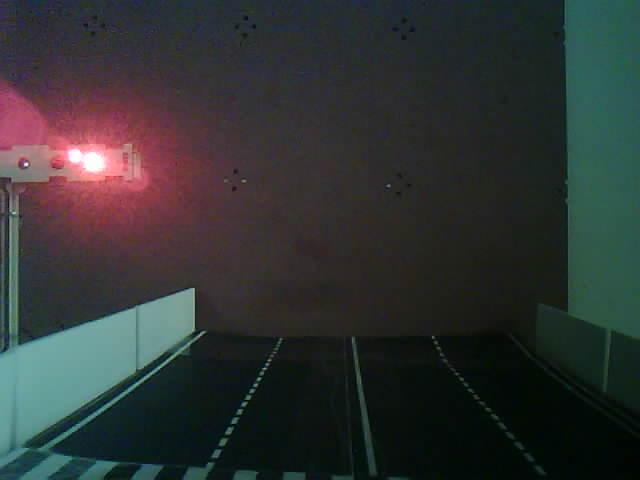crosswalk: (4, 432, 364, 480)
red: (0, 117, 170, 312)
